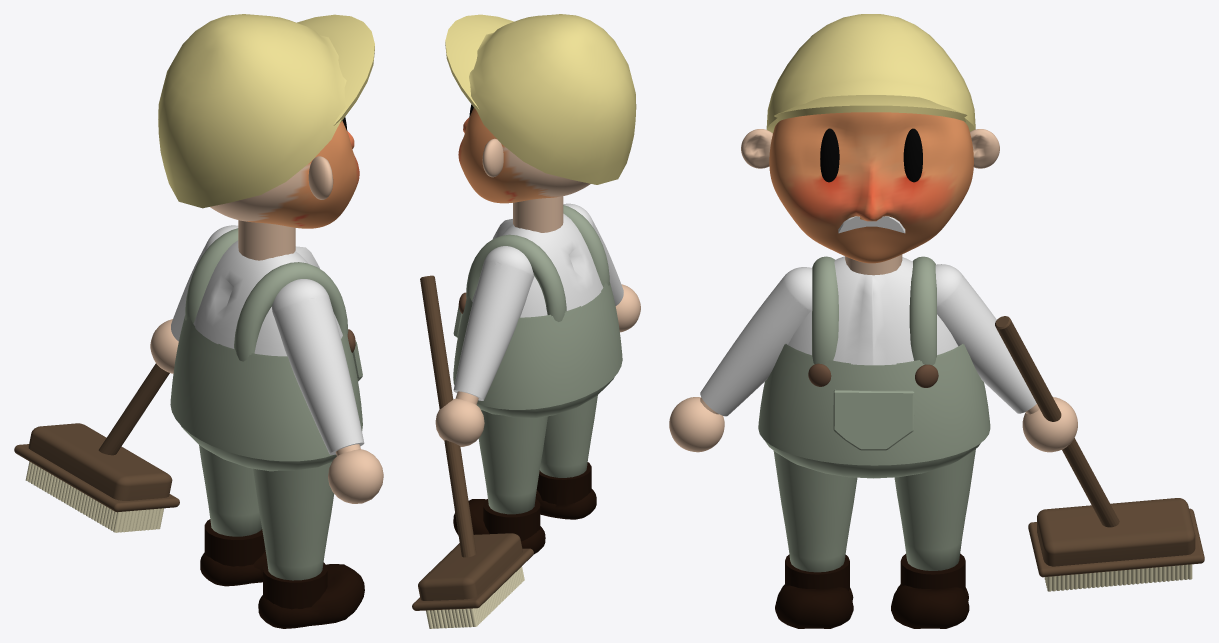
Rendered from JanitorNPC.fbx.
3 renders of one model, left to right at view 1: azimuth 30°, elevation 25°; view 2: azimuth 150°, elevation 25°; view 3: azimuth 270°, elevation 25°, orthographic. The views are drawn at different scales.
Visible parts, largest first — view 1: pSphere2815, polySurface277, pCylinder799, polySurface267, polySurface248, polySurface241, polySurface242, polySurface274, polySurface264, pTorus702, pCylinder702, polySurface253 (+9 smaller); view 2: pSphere2815, polySurface277, pCylinder799, polySurface260, polySurface264, polySurface241, polySurface242, pCylinder703, polySurface248, pTorus701, pCylinder702, polySurface274 (+10 smaller); view 3: polySurface241, polySurface277, pSphere2815, pCylinder799, polySurface242, polySurface267, polySurface248, polySurface264, polySurface260, pCube904, polySurface274, pCylinder703 (+12 smaller).
Part boxes in pixels (<box>): pSphere2815: <box>158,14,346,208</box>; polySurface277: <box>170,315,362,461</box>; pCylinder799: <box>14,423,179,532</box>; polySurface267: <box>272,279,364,454</box>; polySurface248: <box>253,462,334,580</box>; polySurface241: <box>210,121,359,228</box>; polySurface242: <box>193,240,342,356</box>; polySurface274: <box>258,562,364,628</box>; polySurface264: <box>199,445,261,536</box>; pTorus702: <box>234,262,348,361</box>; pCylinder702: <box>297,14,374,125</box>; polySurface253: <box>328,449,383,503</box>; pSphere2815: <box>469,14,636,184</box>; polySurface277: <box>453,282,622,409</box>; pCylinder799: <box>412,533,533,628</box>; polySurface260: <box>453,246,534,400</box>; polySurface264: <box>478,410,547,514</box>; polySurface241: <box>458,108,590,203</box>; polySurface242: <box>472,213,603,317</box>; pCylinder703: <box>420,275,476,557</box>; polySurface248: <box>539,395,597,477</box>; pTorus701: <box>466,234,566,321</box>; pCylinder702: <box>445,14,513,109</box>; polySurface274: <box>535,462,596,519</box>; polySurface241: <box>769,112,973,263</box>; polySurface277: <box>758,344,990,465</box>; pSphere2815: <box>766,14,975,133</box>; pCylinder799: <box>1028,498,1204,591</box>; polySurface242: <box>788,256,958,365</box>; polySurface267: <box>700,267,812,416</box>; polySurface248: <box>773,451,857,572</box>; polySurface264: <box>894,449,975,570</box>; polySurface260: <box>935,264,1036,413</box>; pCube904: <box>833,389,914,450</box>; polySurface274: <box>775,554,853,628</box>; pCylinder703: <box>995,316,1119,527</box>.
Size of the model in its own units: 1.9 by 5.39 by 4.52.
